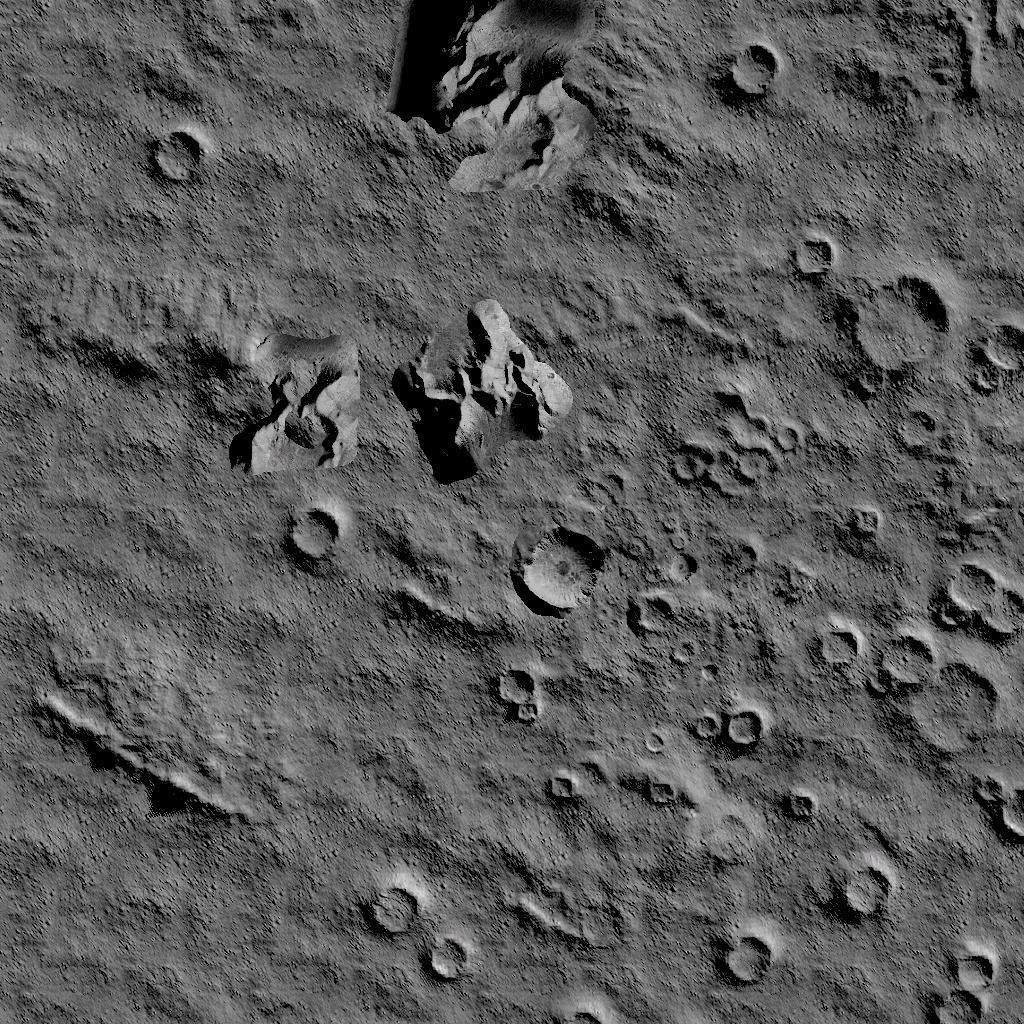Boulders: (369, 0, 632, 214), (393, 288, 568, 478), (195, 304, 370, 482)
Crater: (661, 388, 808, 498), (883, 638, 1018, 756), (359, 868, 475, 982), (847, 274, 954, 394), (503, 520, 612, 624), (923, 926, 1010, 1024), (132, 114, 213, 201), (937, 548, 1024, 624), (709, 30, 783, 110), (707, 920, 781, 992), (825, 854, 906, 918), (967, 318, 1024, 406), (283, 496, 352, 568), (965, 764, 1024, 841), (689, 698, 772, 752), (883, 410, 961, 464), (493, 662, 549, 736), (809, 612, 868, 680), (551, 982, 623, 1024), (779, 230, 837, 280), (623, 592, 682, 634), (641, 770, 687, 808), (851, 496, 885, 545), (785, 782, 821, 822), (541, 766, 580, 802), (659, 544, 698, 577)
Plan surface: (0, 812, 344, 1024), (0, 380, 186, 652), (205, 586, 427, 782), (231, 48, 351, 281)
